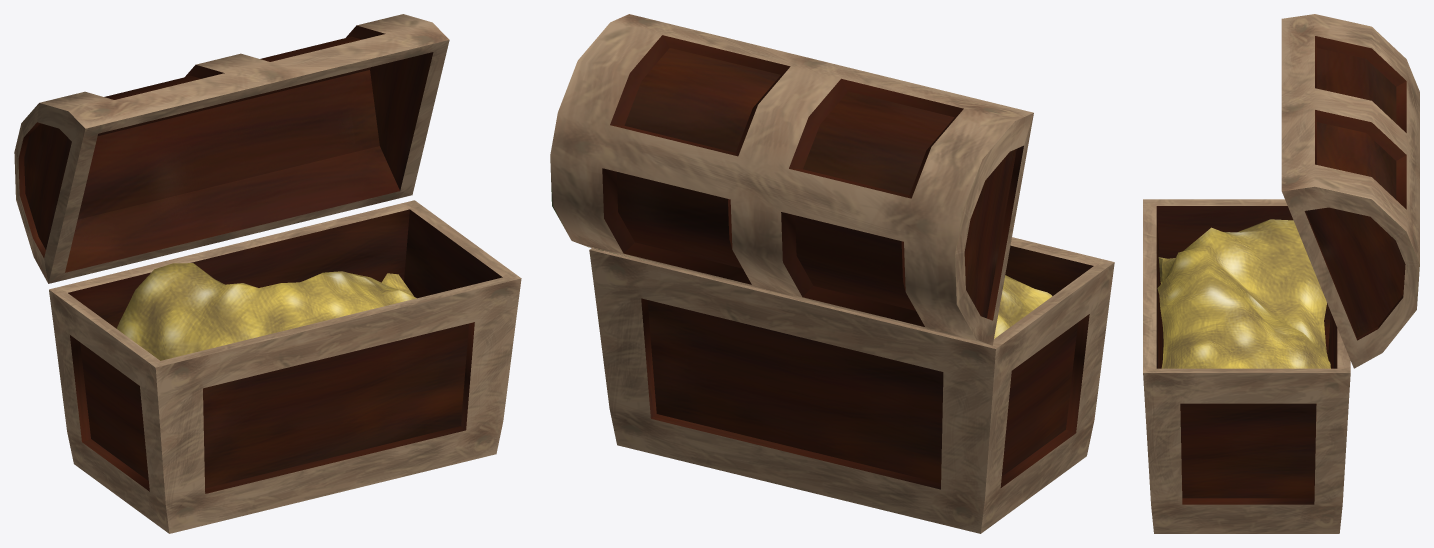
Rendered from Treasure.FBX.
3 views of the same model, side by side, from view 1: azimuth 30°, elevation 25°; view 2: azimuth 150°, elevation 25°; view 3: azimuth 270°, elevation 25° (orthographic). The views are drawn at different scales.
Parts seen in each view (by area): view 1: Box001, Cylinder001; view 2: Cylinder001, Box001; view 3: Box001, Cylinder001.
Boxes of the visible parts, x1,y1,x2,y2 form: Box001: [49, 200, 521, 533]; Cylinder001: [14, 14, 449, 283]; Cylinder001: [550, 14, 1033, 345]; Box001: [589, 237, 1114, 533]; Box001: [1143, 199, 1350, 533]; Cylinder001: [1281, 14, 1419, 368].
Size of the model in its own units: 3.97 by 3.79 by 2.67.
Materials: 2 (2 with a texture image).
